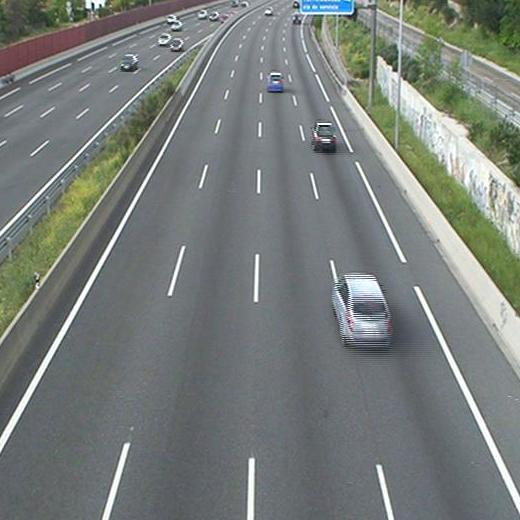car: (331, 275, 392, 345), (313, 123, 337, 148), (267, 72, 284, 91), (292, 12, 302, 22), (263, 6, 273, 15)
